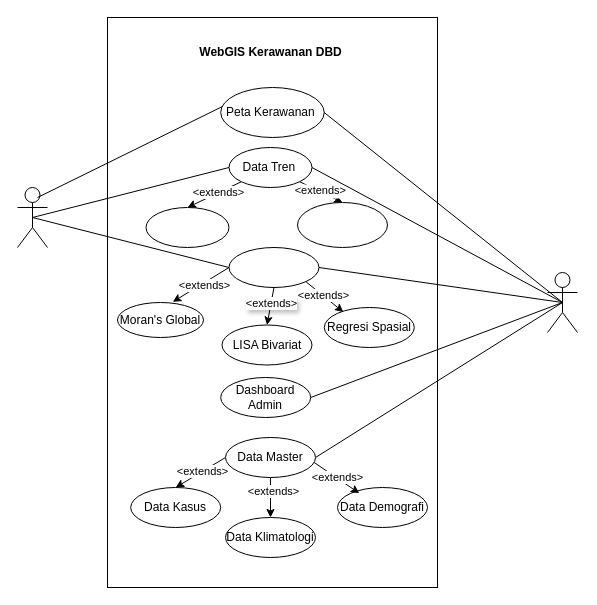
Some shapes in this 597 by 605 pixel diagram are drawn without their labels. Here are the shapes that lost their labels. From the top down, the centre of each, then its label:
At [32,217]: "User".
At [187,227]: "Data Tren Kabupaten".
At [342,225]: "Data Tren Kecamatan".
At [273,267]: "Analisis Spasial".
At [562,302]: "Admin".
